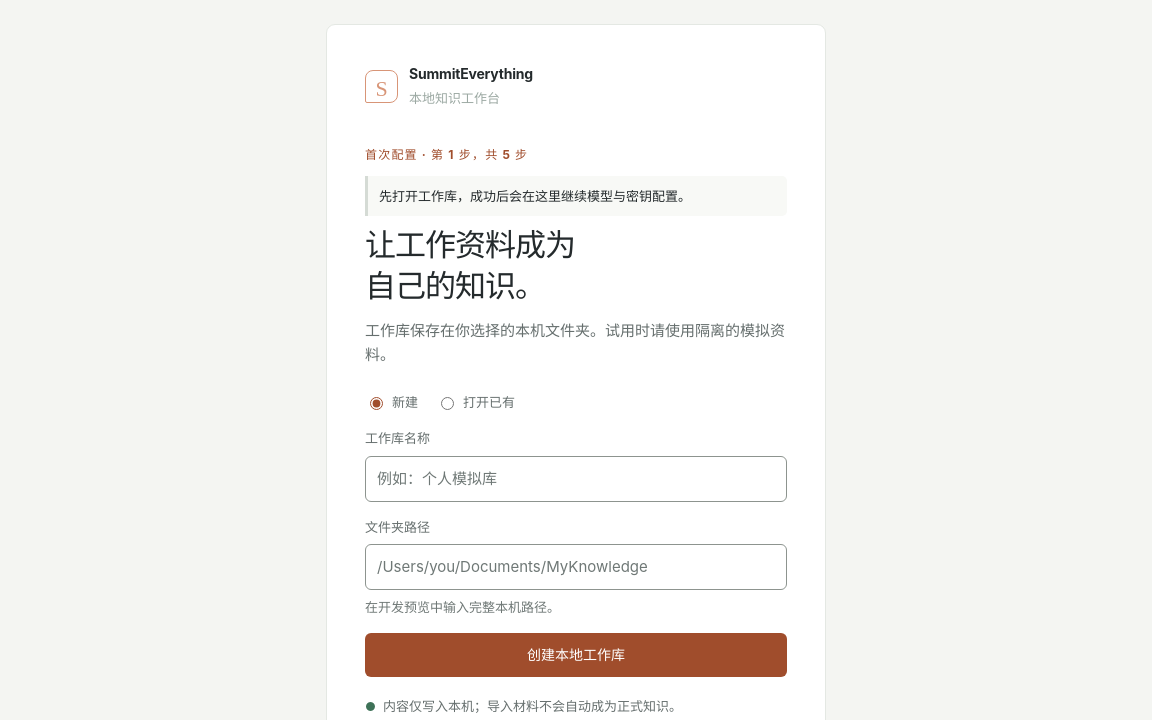
Test case: 未完成但向导仍开着的记录：恢复到保存的步骤
Click the radio button labelled "打开已有".
click(448, 404)  # box [441,398,454,410]
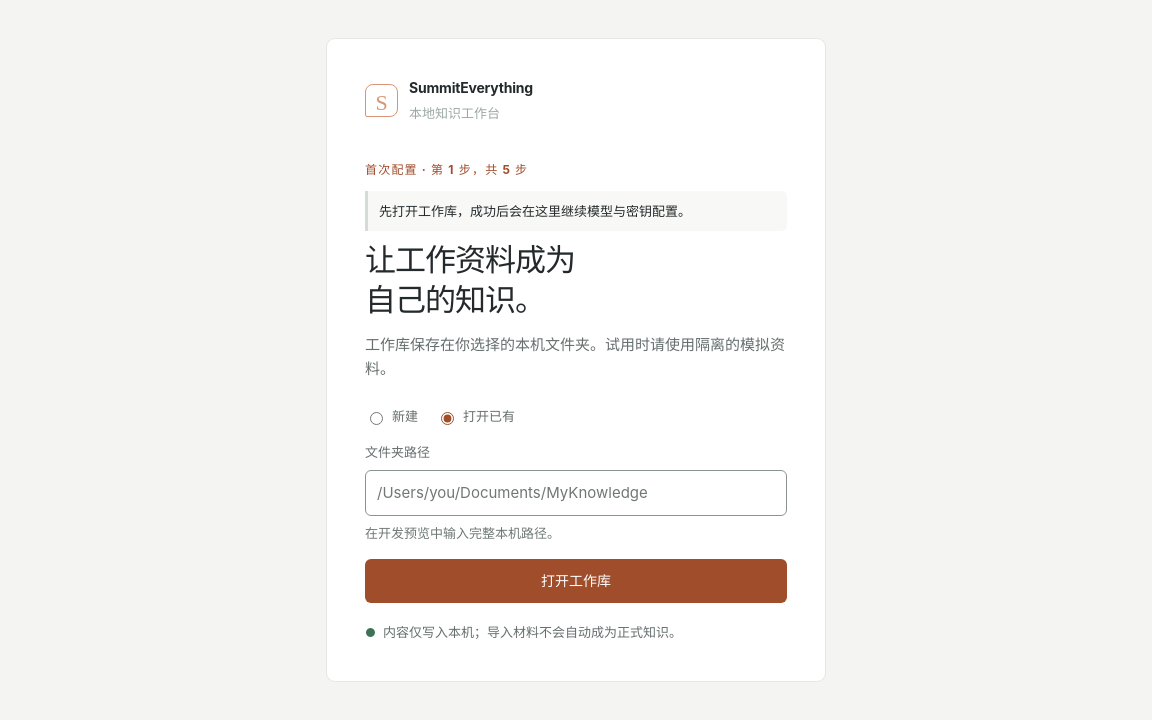
Type "/tmp/workspace" into the field labelled "文件夹路径".
click(576, 493); type("/tmp/workspace")  # box [365,470,787,516]
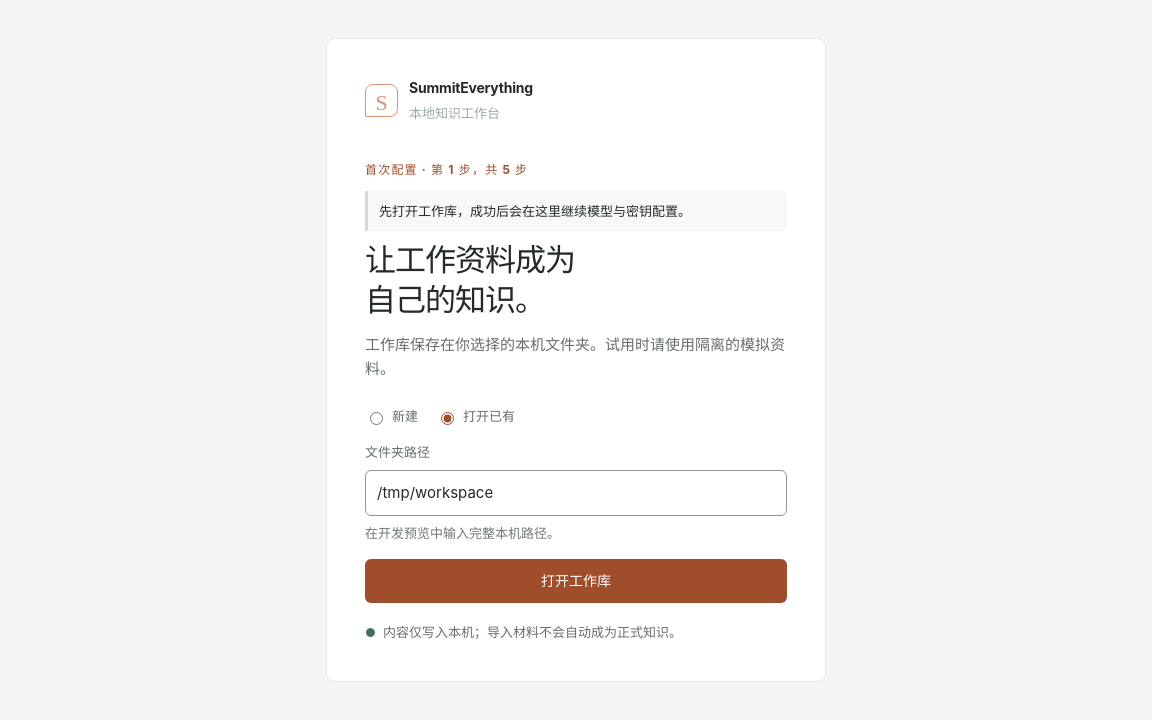
Click the button "打开工作库".
click(576, 581)  # box [365,559,787,603]
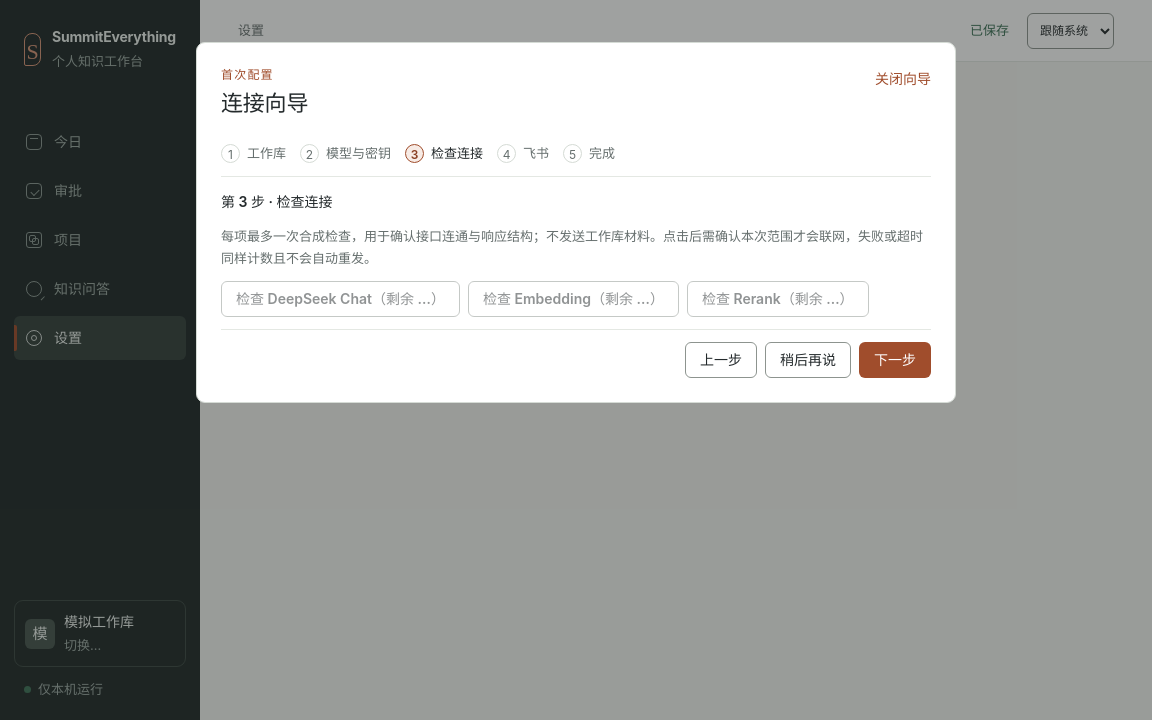
Expected: the dialog named "首次配置向导" is shown, [196,42,956,403]
Expected: the heading "第 3 步 · 检查连接" is shown, [221,193,332,210]
